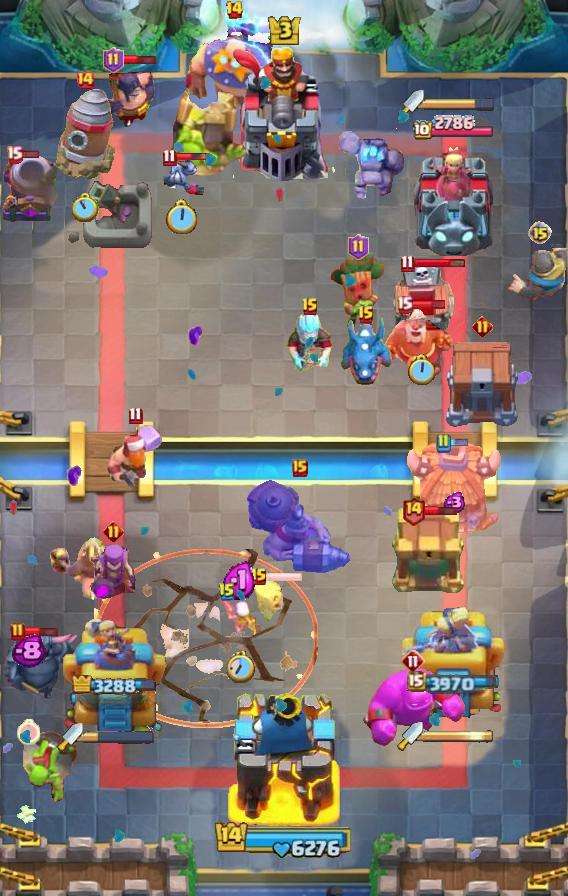bar: (399, 607, 507, 731), (61, 615, 166, 731), (409, 142, 497, 256)
bar-level: (20, 726, 80, 802)
bat-evolution: (253, 578, 285, 622)
bomb: (387, 507, 465, 595), (443, 342, 521, 428)
clock: (214, 819, 354, 859)
clone: (359, 666, 467, 748)
electro-spirit: (222, 561, 258, 601), (11, 635, 46, 670), (442, 491, 467, 513)
elixir: (166, 199, 199, 237), (408, 353, 437, 386), (225, 651, 254, 683), (72, 194, 99, 223), (17, 719, 40, 745)
elixir-collector: (377, 305, 455, 379)
elixir-golem-mid: (387, 259, 457, 345)
emote: (414, 259, 467, 270), (122, 53, 158, 66), (422, 503, 458, 516), (265, 571, 303, 583), (25, 625, 60, 638), (410, 299, 446, 310), (174, 152, 208, 162), (20, 149, 40, 159), (449, 438, 469, 448)
firecracker: (508, 243, 568, 300)
freeze: (49, 537, 111, 601)
goblin-barrel: (329, 252, 387, 332)
goblin-cage: (0, 155, 64, 225)
golemite: (0, 631, 84, 705)
graveyard: (339, 315, 393, 387)
guard: (94, 549, 318, 728)
heal-spirit: (220, 596, 260, 636)
king-tower: (226, 688, 342, 826), (230, 45, 338, 181)
king-tower-bar: (424, 97, 496, 111), (423, 729, 495, 743), (83, 730, 155, 744)
little-prince: (181, 0, 287, 128)
magic-archer: (55, 86, 115, 180)
mighty-miner: (105, 419, 165, 493)
monk: (101, 58, 157, 130)
mortar: (285, 306, 335, 374)
prince: (402, 443, 504, 539)
rascal-girl: (86, 541, 140, 605)
royal-delivery: (160, 158, 204, 196)
selected: (413, 114, 496, 141), (407, 671, 499, 694), (72, 675, 156, 697)
text: (401, 494, 426, 525), (528, 221, 552, 245), (401, 649, 425, 673), (103, 47, 124, 73), (348, 234, 369, 260), (103, 521, 124, 543), (472, 315, 493, 336), (75, 70, 95, 90), (225, 0, 244, 20), (301, 297, 319, 317), (357, 305, 375, 325), (250, 567, 268, 587), (218, 582, 236, 602), (5, 145, 23, 163), (396, 295, 413, 314), (435, 433, 451, 453), (10, 622, 26, 642), (292, 459, 308, 477), (163, 148, 178, 167), (129, 407, 144, 426), (401, 255, 415, 273)
valkyrie-evolution: (339, 128, 405, 200)
wizard: (244, 478, 356, 576)
x-bow: (163, 84, 249, 180)
